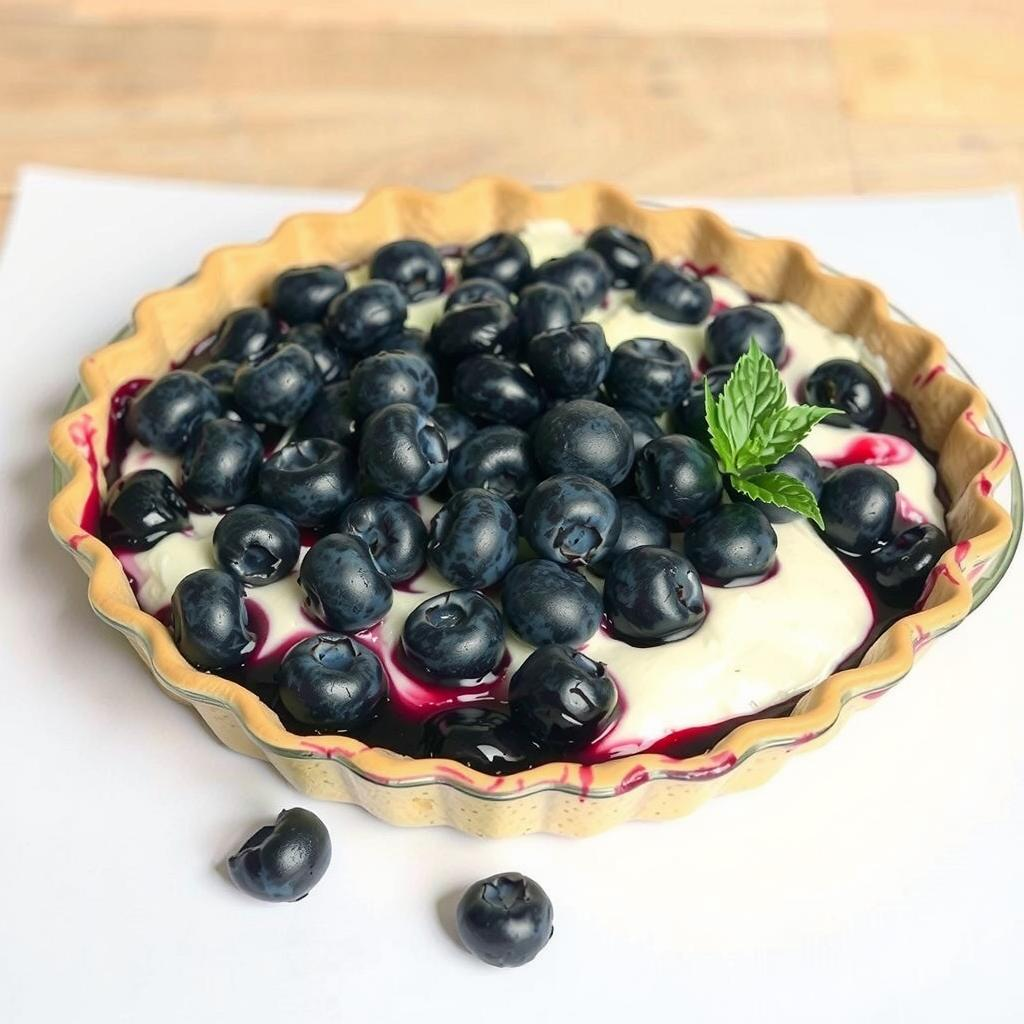pie: (39, 167, 1024, 841)
